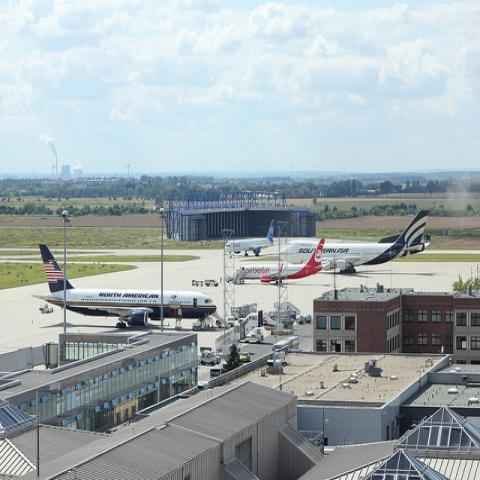truck: (200, 351, 216, 366), (204, 277, 220, 289)
